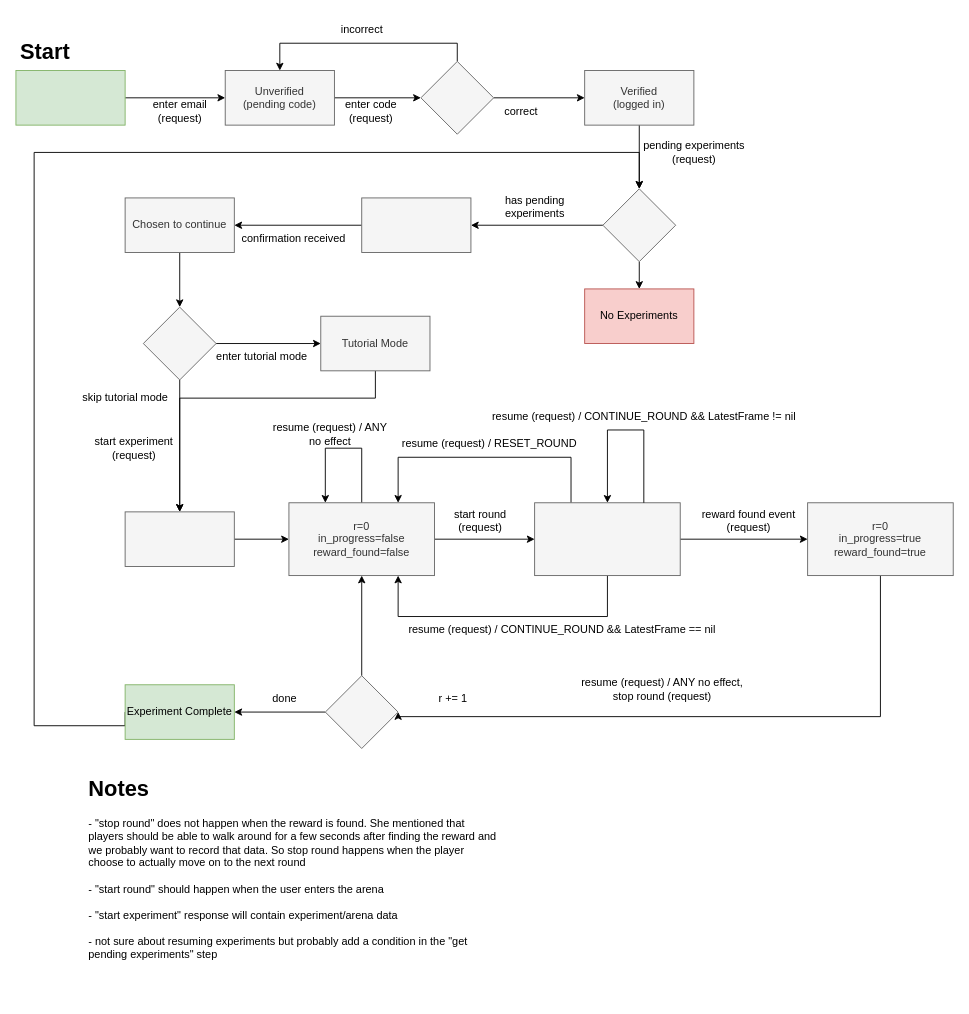
Image size: 969x1014. Some labels were removed from this diagram. The box of each missing label's shape, as (x1, y1, x2, y2) in pixels:
Experiment Started: (124, 511, 234, 566)
r=0 in_progress=true reward_found=false: (534, 502, 680, 576)
Unverified: (15, 70, 125, 125)
Would you like to start? (confirmation msg): (361, 197, 471, 253)
